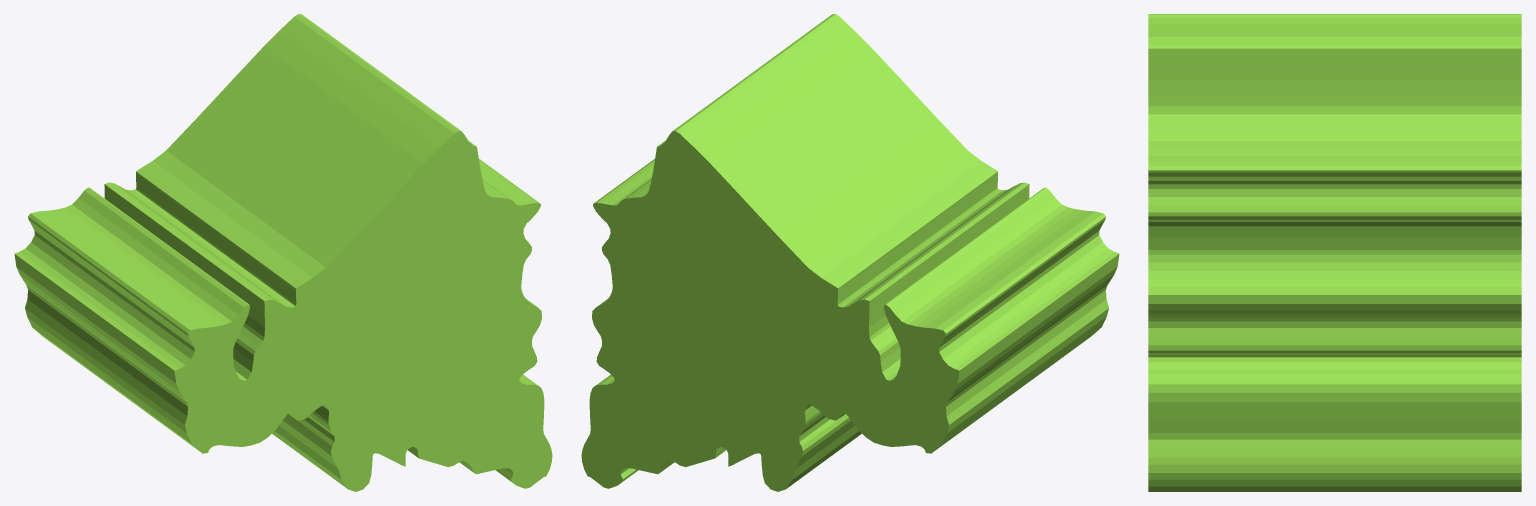
The model's file is ambo.glb.
3 renders of one model, left to right at view 1: azimuth 30°, elevation 25°; view 2: azimuth 150°, elevation 25°; view 3: azimuth 270°, elevation 25°, orthographic. The views are drawn at different scales.
Visible parts, largest first — view 1: ambo; view 2: ambo; view 3: ambo.
Part boxes in pixels (<box>): ambo: <box>14,14,552,491</box>; ambo: <box>581,14,1119,491</box>; ambo: <box>1148,14,1521,491</box>.
Size of the model in its own units: 1.82 by 1.72 by 1.33.
